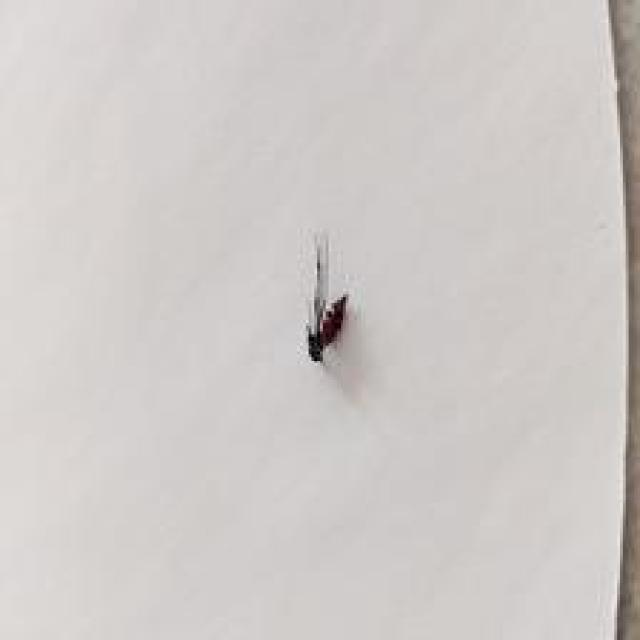Aedes albopictus: (304, 230, 350, 364)
